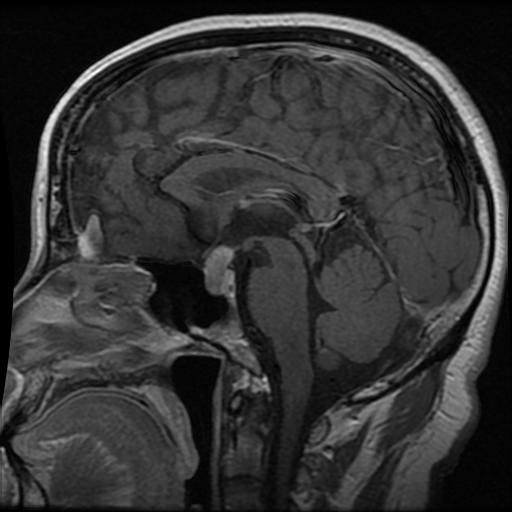Pituirity_tumour: (203, 245, 233, 293)
